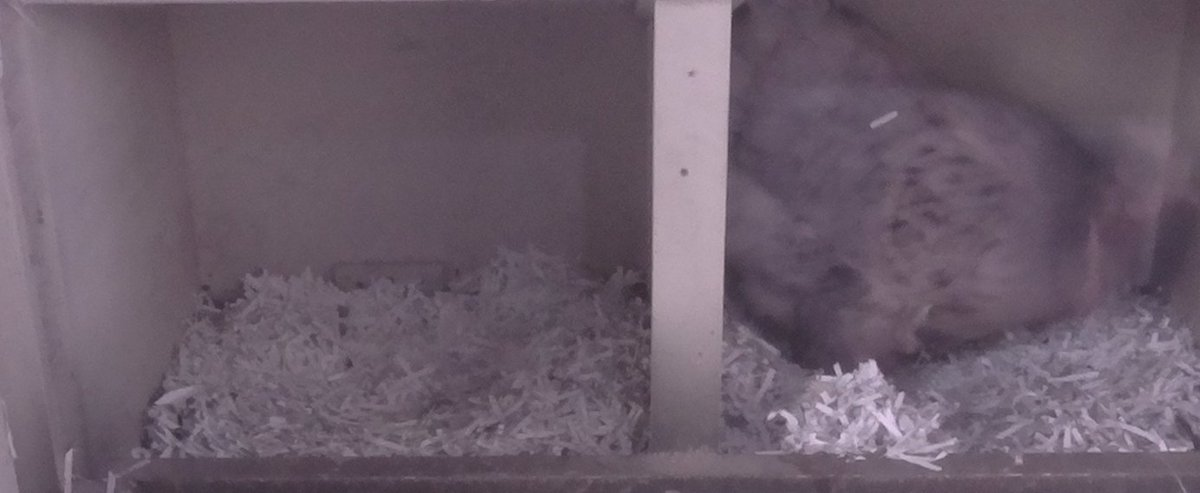hen: (731, 2, 1171, 378)
